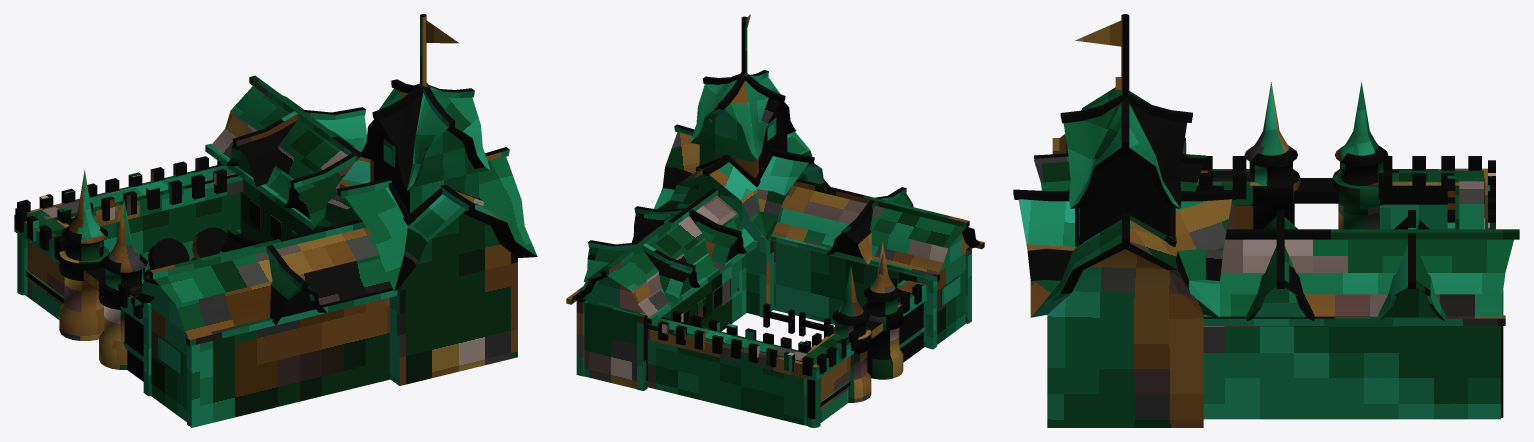
Rendered from barracks.dae.
3 views of the same model, side by side, from view 1: azimuth 30°, elevation 25°; view 2: azimuth 150°, elevation 25°; view 3: azimuth 270°, elevation 25° (orthographic). The views are drawn at different scales.
Visible parts, largest first — view 1: Barrax; view 2: Barrax; view 3: Barrax.
Part boxes in pixels (box(x1,y1,x2,y2)): Barrax: box(14, 14, 537, 427); Barrax: box(566, 14, 984, 427); Barrax: box(1013, 14, 1519, 427).
Size of the model in its own units: 22 by 23.5 by 19.55.
